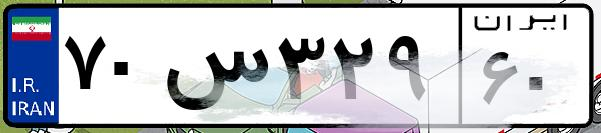0: (525, 38, 570, 115), (110, 28, 158, 98)
2: (330, 28, 385, 110)
3: (270, 28, 330, 110)
6: (475, 38, 525, 113)
7: (57, 26, 110, 100)
9: (385, 28, 445, 110)
س: (158, 20, 270, 120)
